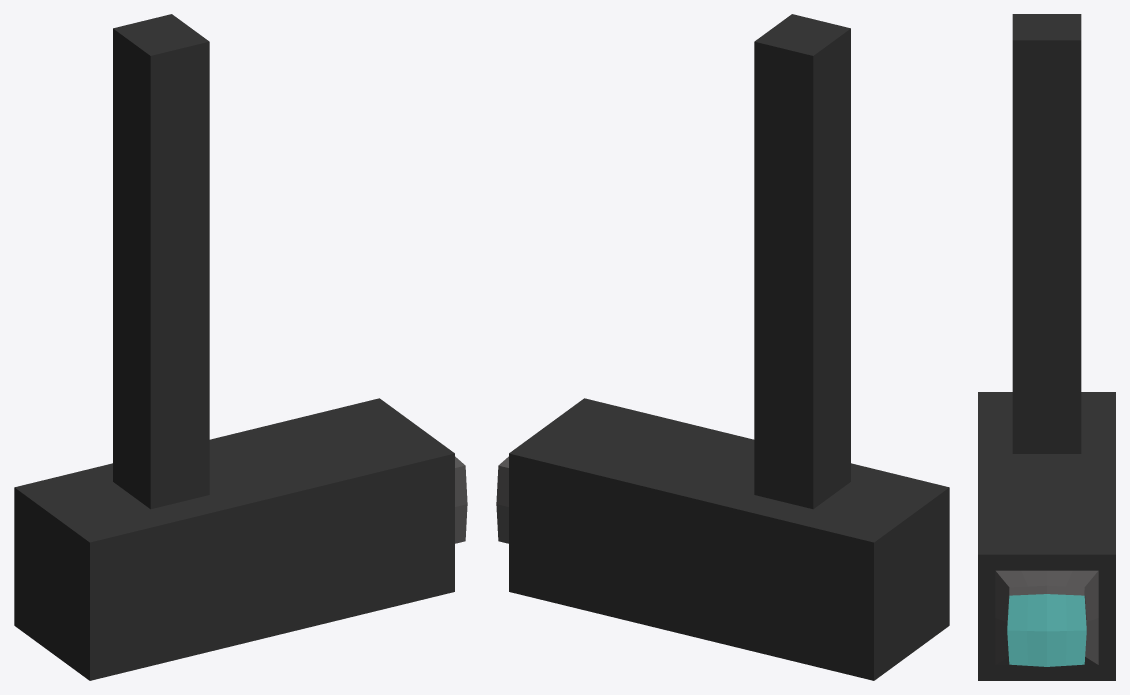
The model's file is Camera.fbx.
3 views of the same model, side by side, from view 1: azimuth 30°, elevation 25°; view 2: azimuth 150°, elevation 25°; view 3: azimuth 270°, elevation 25° (orthographic). The views are drawn at different scales.
Parts seen in each view (by area): view 1: Cube; view 2: Cube; view 3: Cube.
Boxes of the visible parts, x1,y1,x2,y2 form: Cube: [14, 14, 467, 680]; Cube: [496, 14, 949, 680]; Cube: [978, 14, 1115, 680].
Bounding box in the file's own units: 23.45 × 33.5 × 7.74.
